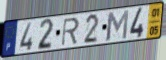2: (37, 18, 54, 53), (83, 13, 100, 46)
4: (128, 7, 145, 40), (19, 22, 34, 52)
M: (105, 9, 130, 42)
R: (61, 16, 81, 48)
